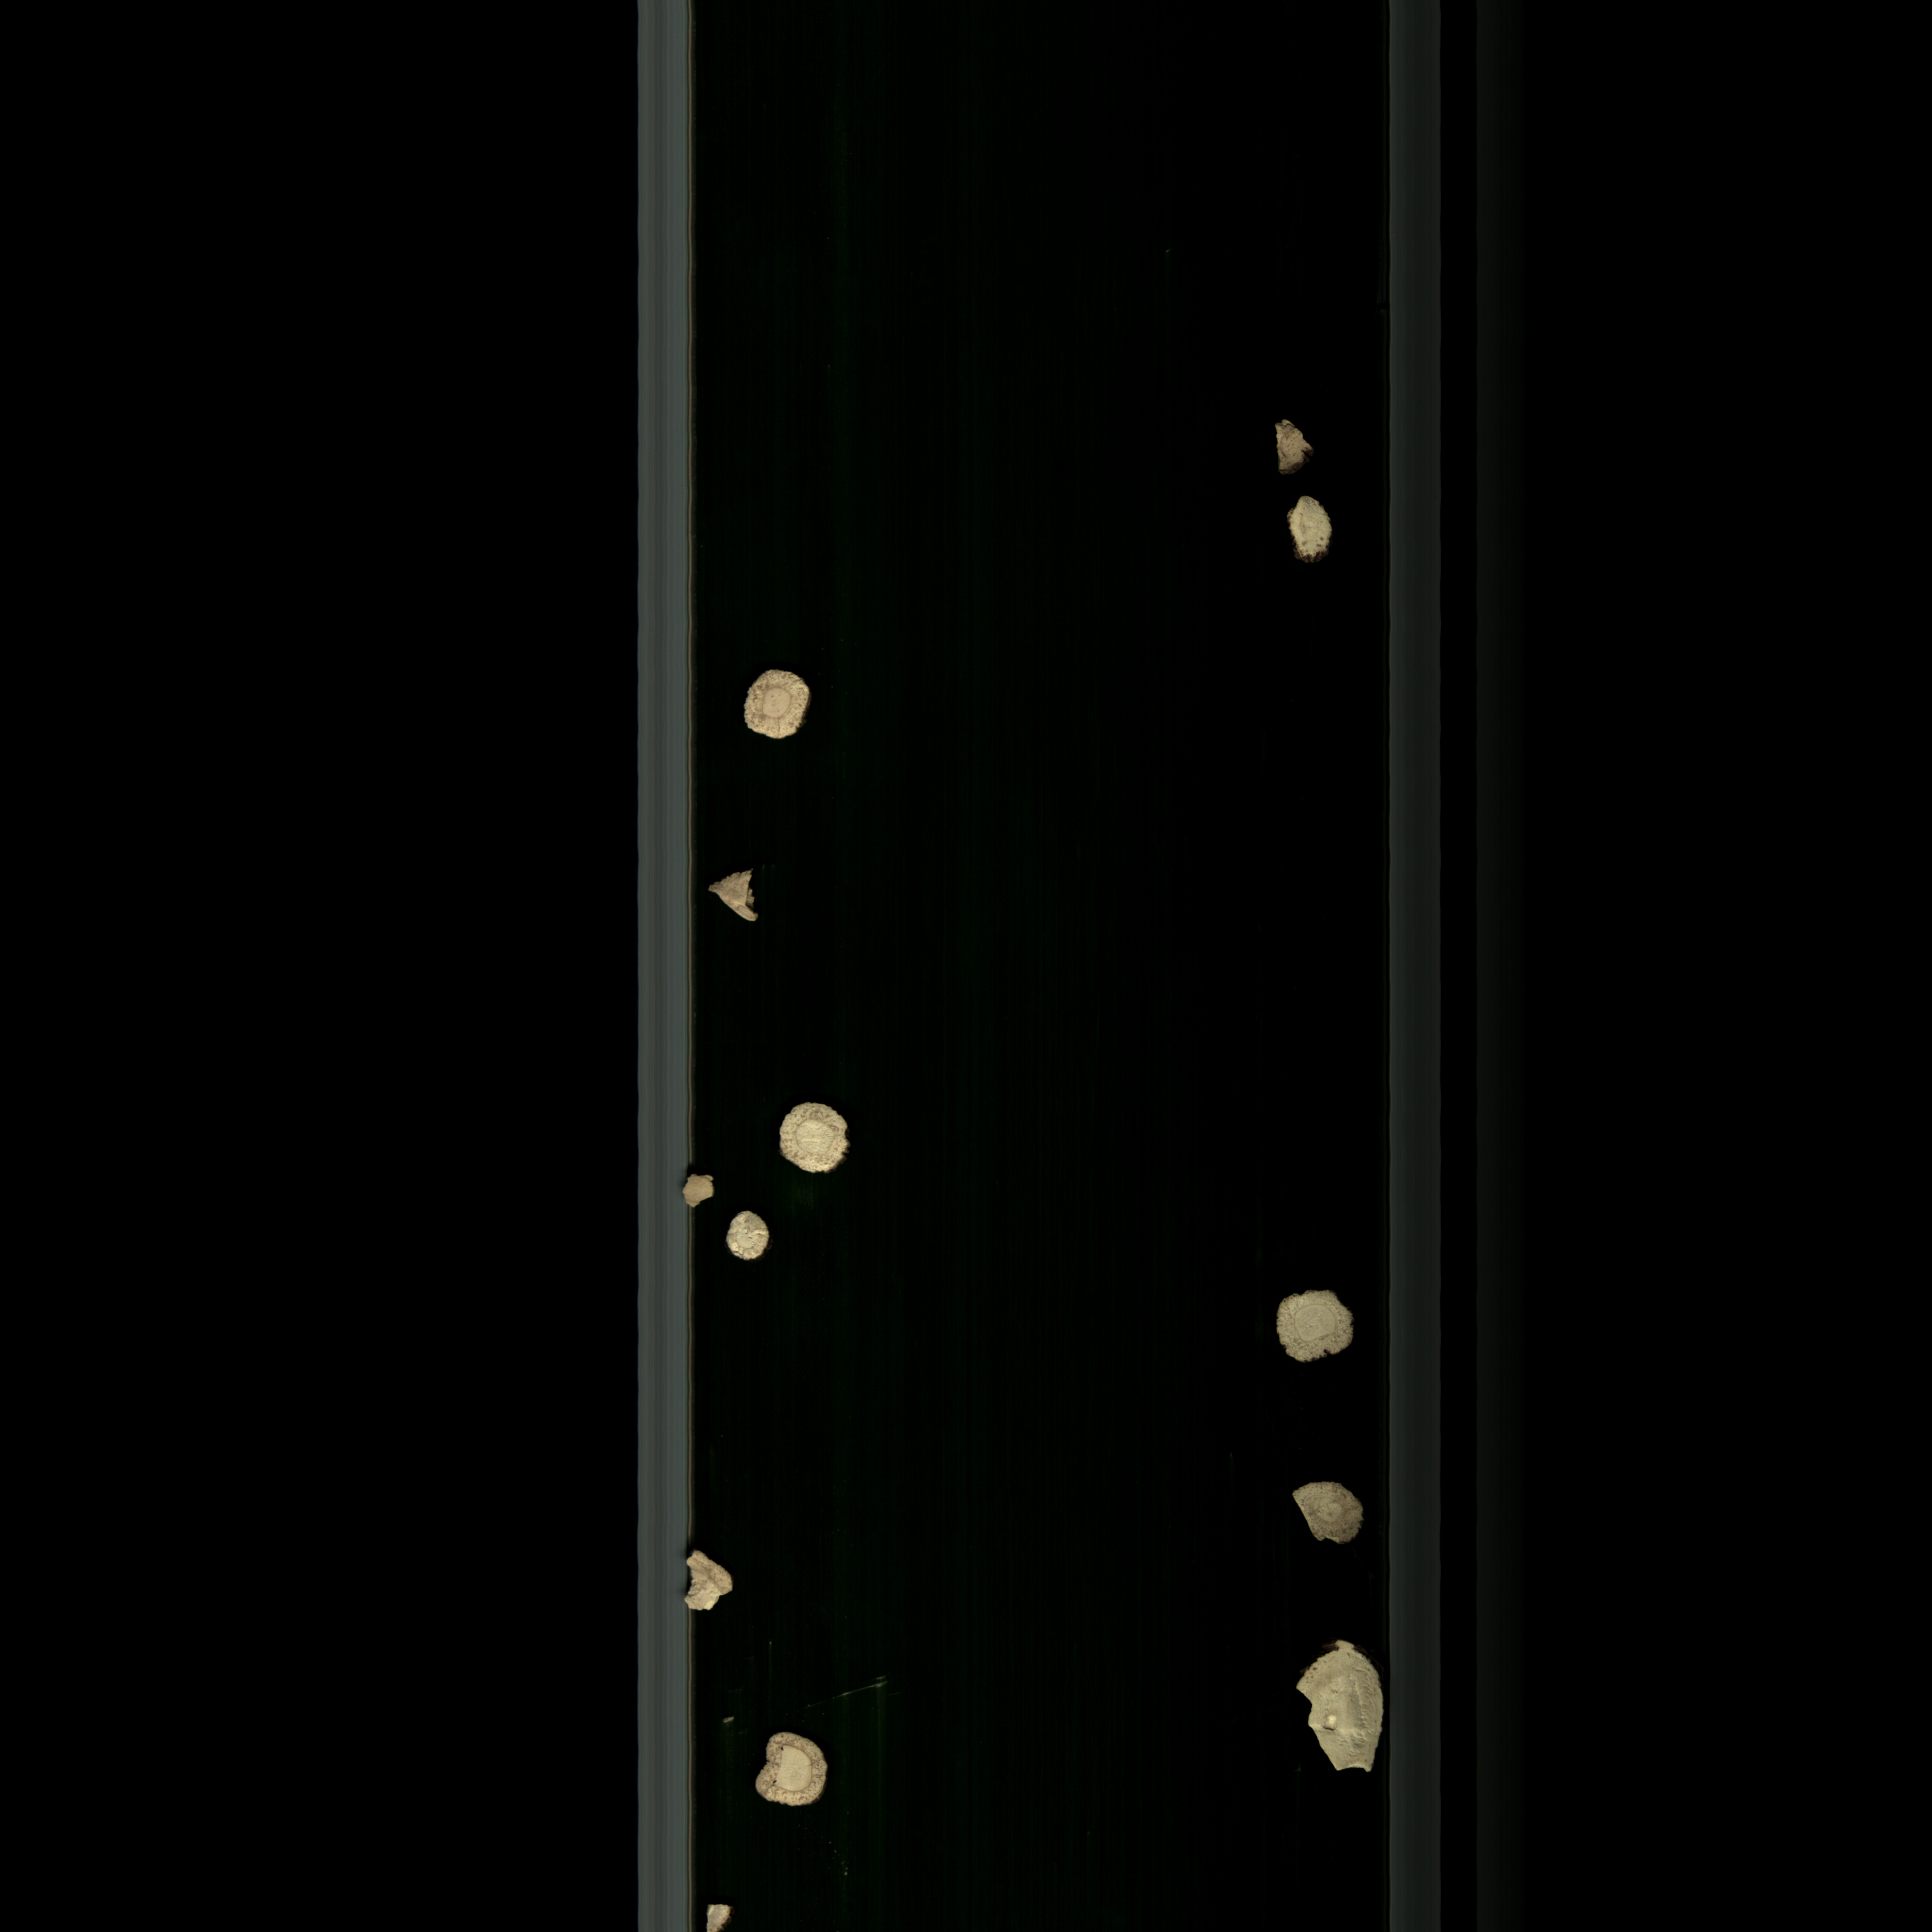debris: (1284, 1624, 1387, 1792)
distortion: (752, 1721, 842, 1828), (1265, 1283, 1361, 1375), (678, 1539, 750, 1629), (1281, 494, 1339, 580), (1261, 410, 1322, 487)
dreg: (701, 872, 764, 929), (672, 1168, 727, 1210), (701, 1893, 736, 1932)
moldy: (1288, 1468, 1373, 1564)
